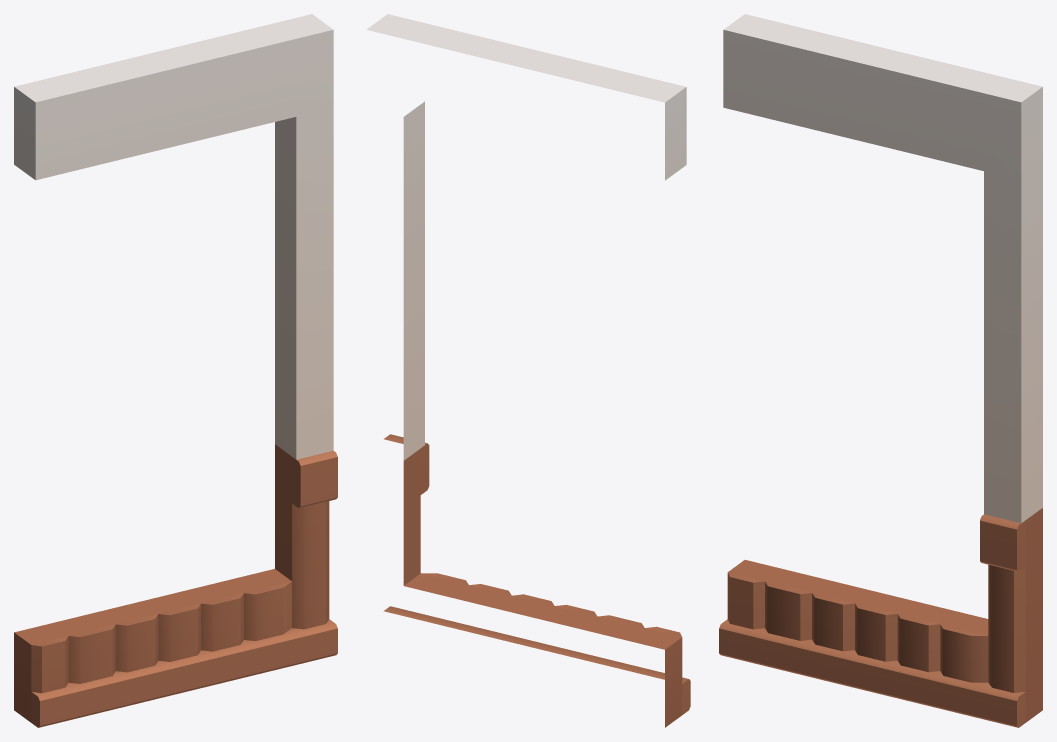
Rendered from wall-modular-panelled-bakery-window-full-right-a.glb.
3 views of the same model, side by side, from view 1: azimuth 30°, elevation 25°; view 2: azimuth 150°, elevation 25°; view 3: azimuth 330°, elevation 25° (orthographic).
Parts seen in each view (by area): view 1: wall_modular_panelled_bakery_window_full_right_A; view 2: wall_modular_panelled_bakery_window_full_right_A; view 3: wall_modular_panelled_bakery_window_full_right_A.
Part boxes in pixels (x1,y1,x2,y2): wall_modular_panelled_bakery_window_full_right_A: (14,14,337,727); wall_modular_panelled_bakery_window_full_right_A: (366,14,690,727); wall_modular_panelled_bakery_window_full_right_A: (719,14,1042,727).
Bounding box in the file's own units: 2 × 4 × 0.3.
1 material, 1 textured.
